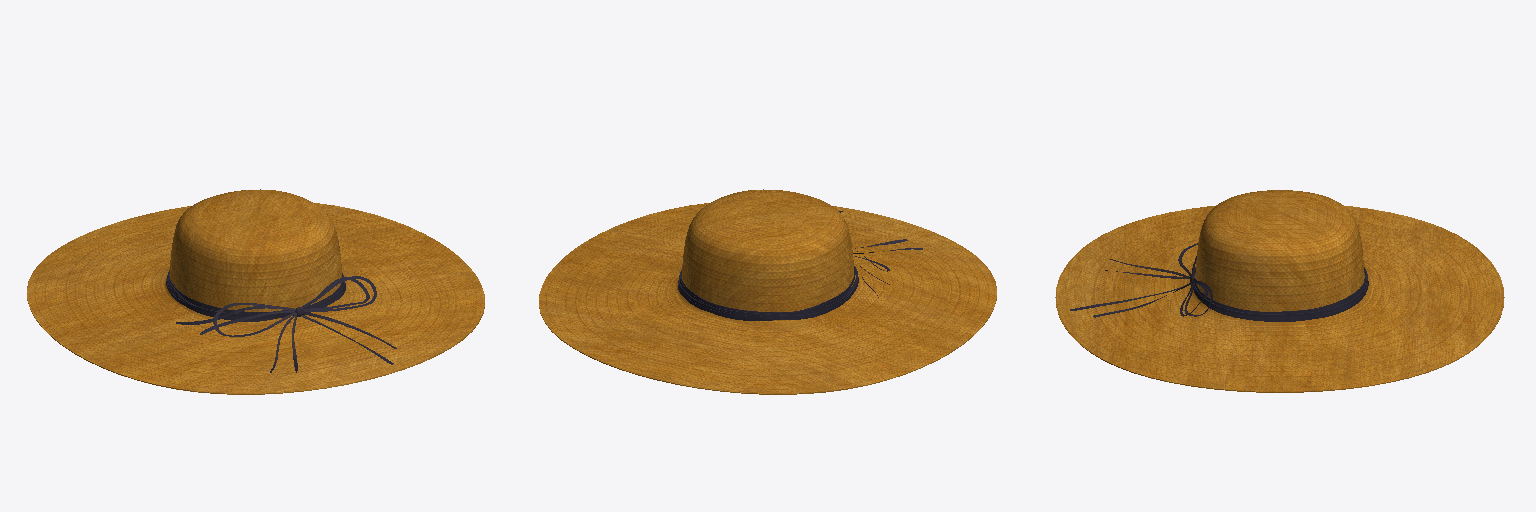
3 renders of one model, left to right at view 1: azimuth 30°, elevation 25°; view 2: azimuth 150°, elevation 25°; view 3: azimuth 270°, elevation 25°, orthographic.
Parts seen in each view (by area): view 1: Hat3_Cube.008, Plane.002_Plane.001, Cylinder.002_Cylinder.003; view 2: Hat3_Cube.008, Cylinder.002_Cylinder.003; view 3: Hat3_Cube.008, Cylinder.002_Cylinder.003, Plane.002_Plane.001.
Part boxes in pixels (x1,y1,x2,y2): Hat3_Cube.008: (27, 189, 484, 394); Plane.002_Plane.001: (176, 276, 396, 372); Cylinder.002_Cylinder.003: (166, 270, 345, 321); Hat3_Cube.008: (539, 189, 996, 394); Cylinder.002_Cylinder.003: (678, 266, 858, 320); Hat3_Cube.008: (1055, 190, 1504, 392); Cylinder.002_Cylinder.003: (1193, 267, 1368, 321); Plane.002_Plane.001: (1070, 243, 1212, 317).
Bounding box in the file's own units: 4.24 × 0.9016 × 4.24.
Materials: 1 (1 with a texture image).